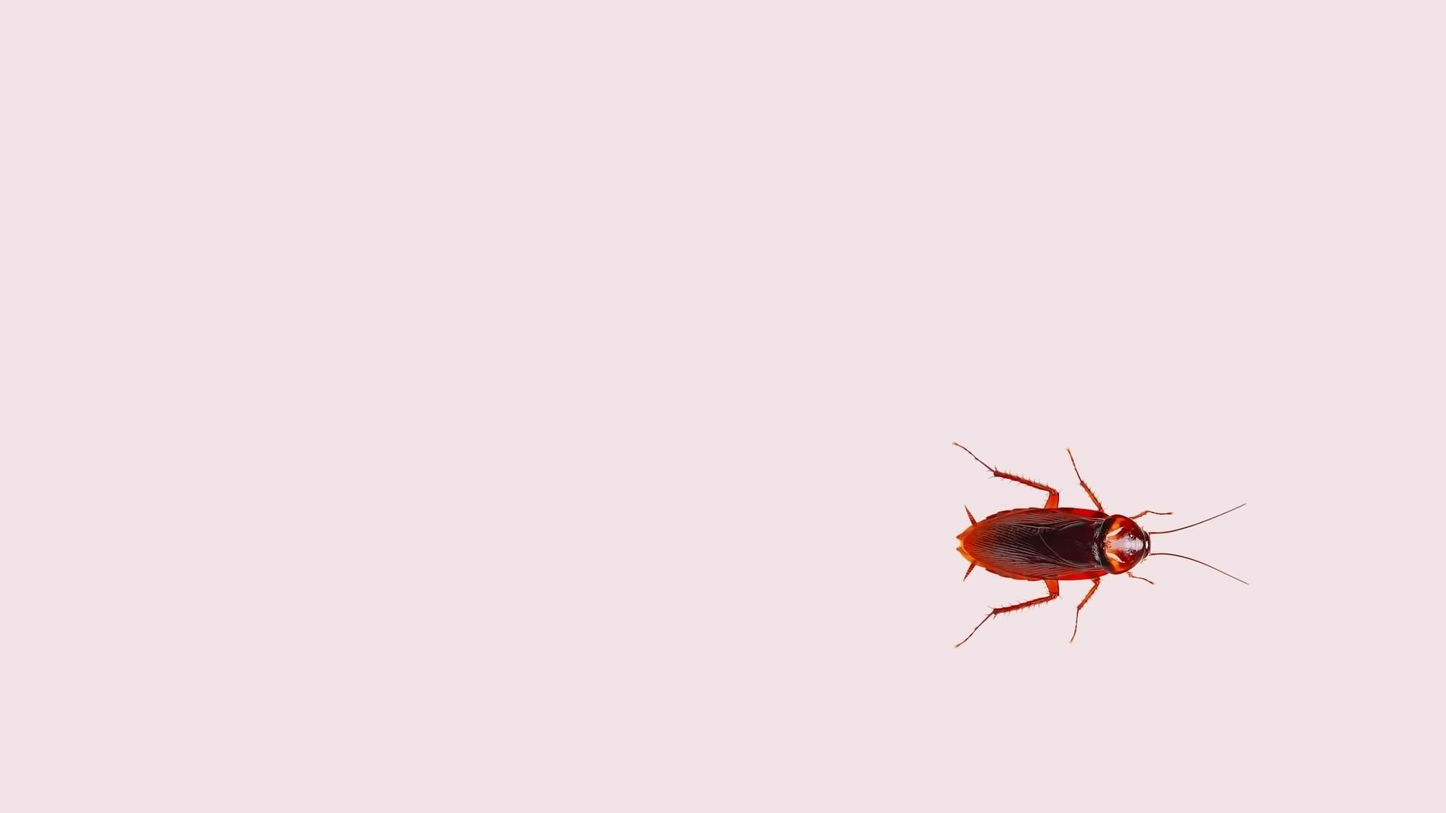cockroach: (918, 422, 1252, 638)
